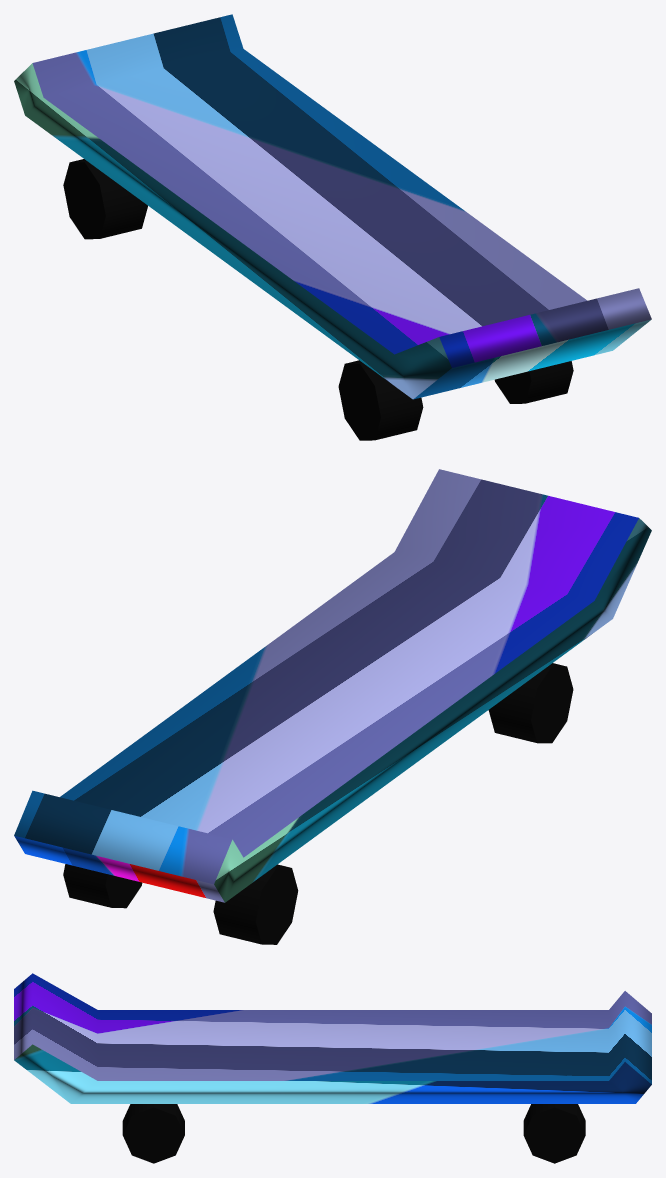
File: P_SkateBoard.fbx
The picture shows the model from 3 angles, top to bottom: view 1: azimuth 30°, elevation 25°; view 2: azimuth 150°, elevation 25°; view 3: azimuth 270°, elevation 25°; orthographic projection. The views are drawn at different scales.
Visible parts, largest first — view 1: SkateBoard; view 2: SkateBoard; view 3: SkateBoard.
Boxes of the visible parts, <box> form: SkateBoard: <box>14,14,651,440</box>; SkateBoard: <box>14,469,651,944</box>; SkateBoard: <box>14,973,651,1163</box>.
Size of the model in its own units: 0.1236 by 0.0978 by 0.4688.
